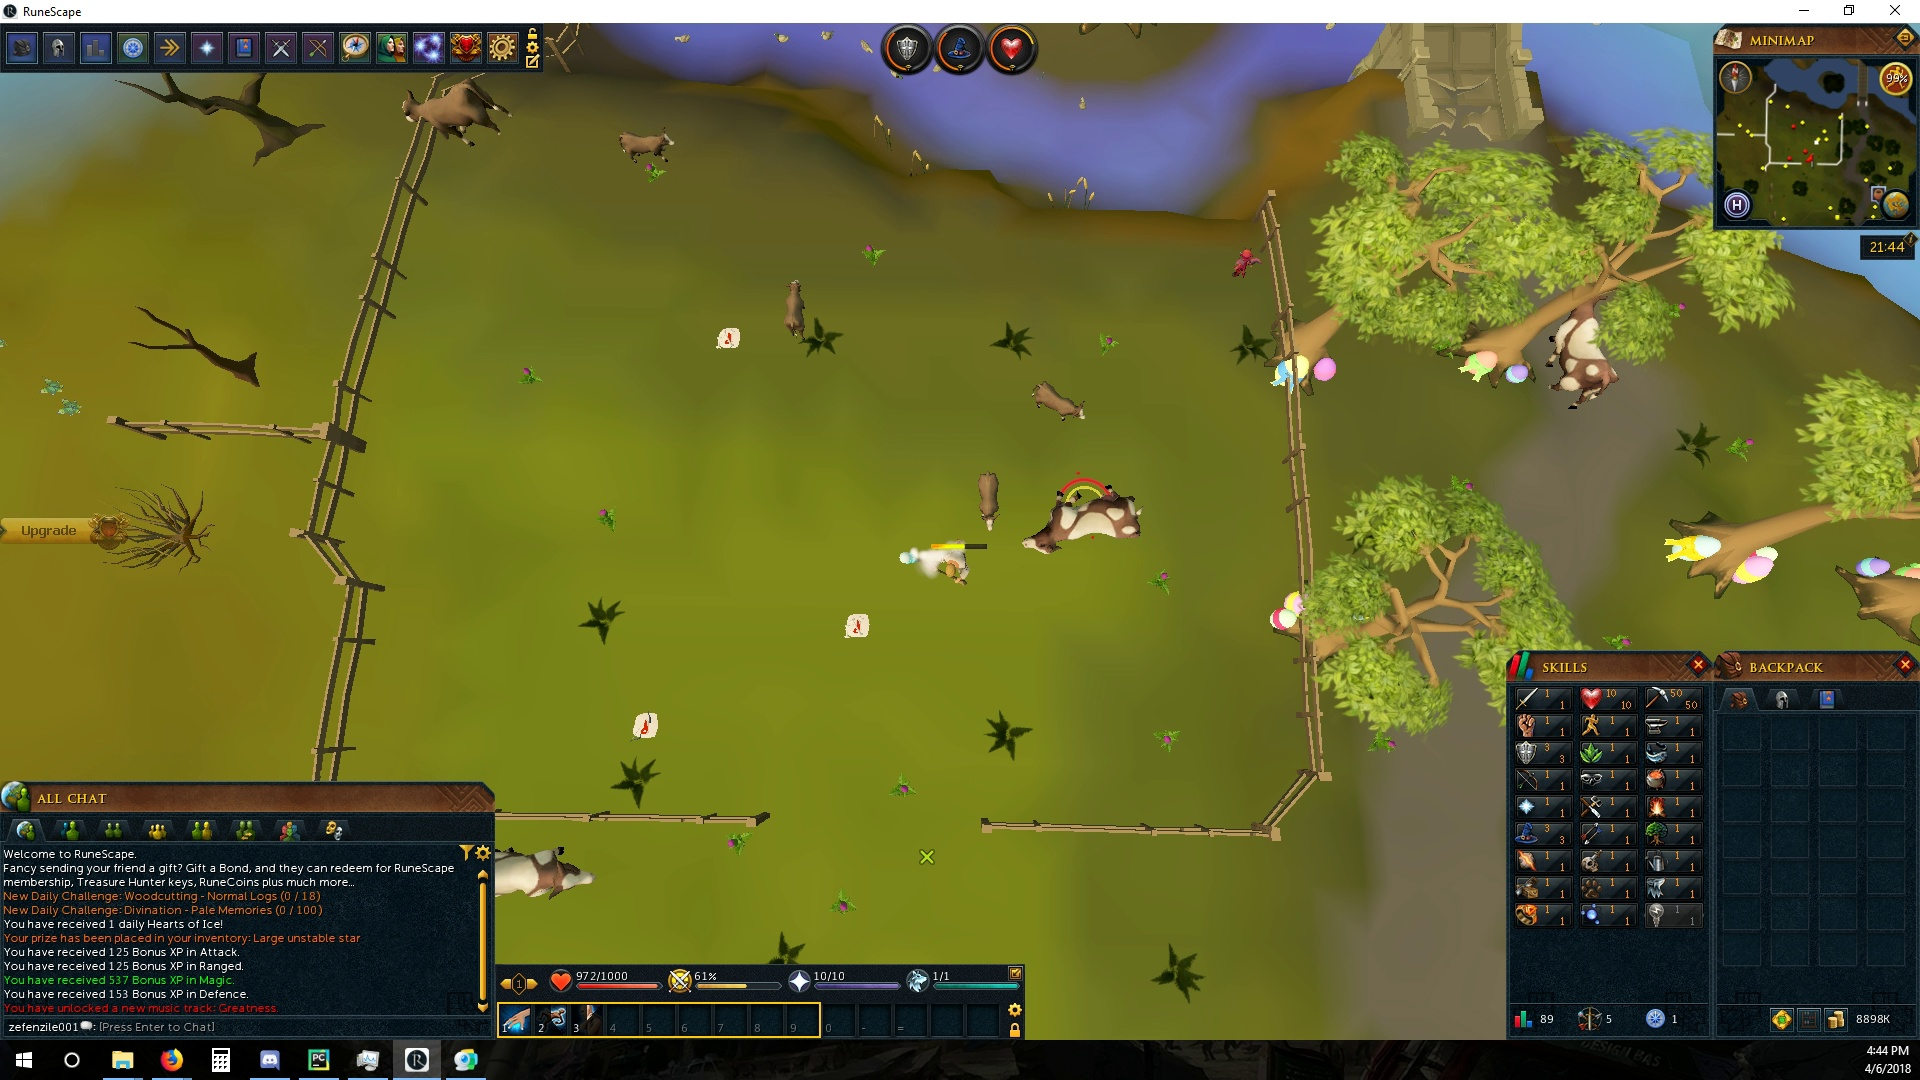calf: (1029, 380, 1091, 425), (611, 127, 676, 161), (975, 469, 1004, 533), (782, 274, 808, 338)
cow: (1019, 485, 1149, 559), (385, 80, 516, 153), (1545, 294, 1622, 411), (495, 845, 597, 906)
cow_drop: (632, 708, 663, 742), (843, 611, 873, 644), (711, 326, 742, 353)
